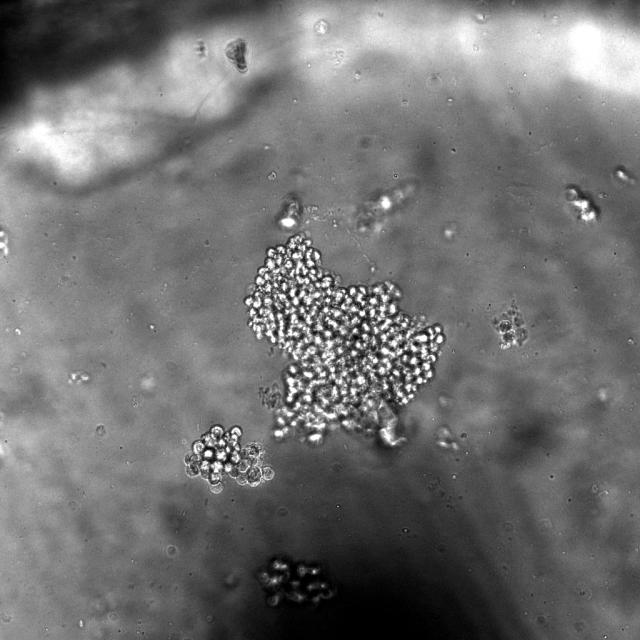organoid: (244, 234, 444, 446), (185, 425, 274, 493), (256, 556, 334, 606), (355, 183, 415, 230), (493, 300, 528, 348), (565, 185, 599, 222), (276, 192, 304, 231), (226, 38, 248, 72)
